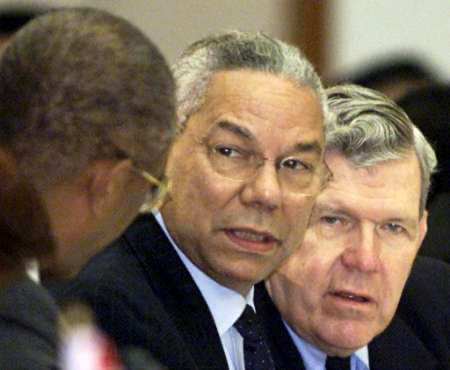Face: (177, 103, 328, 290), (293, 160, 431, 352)
